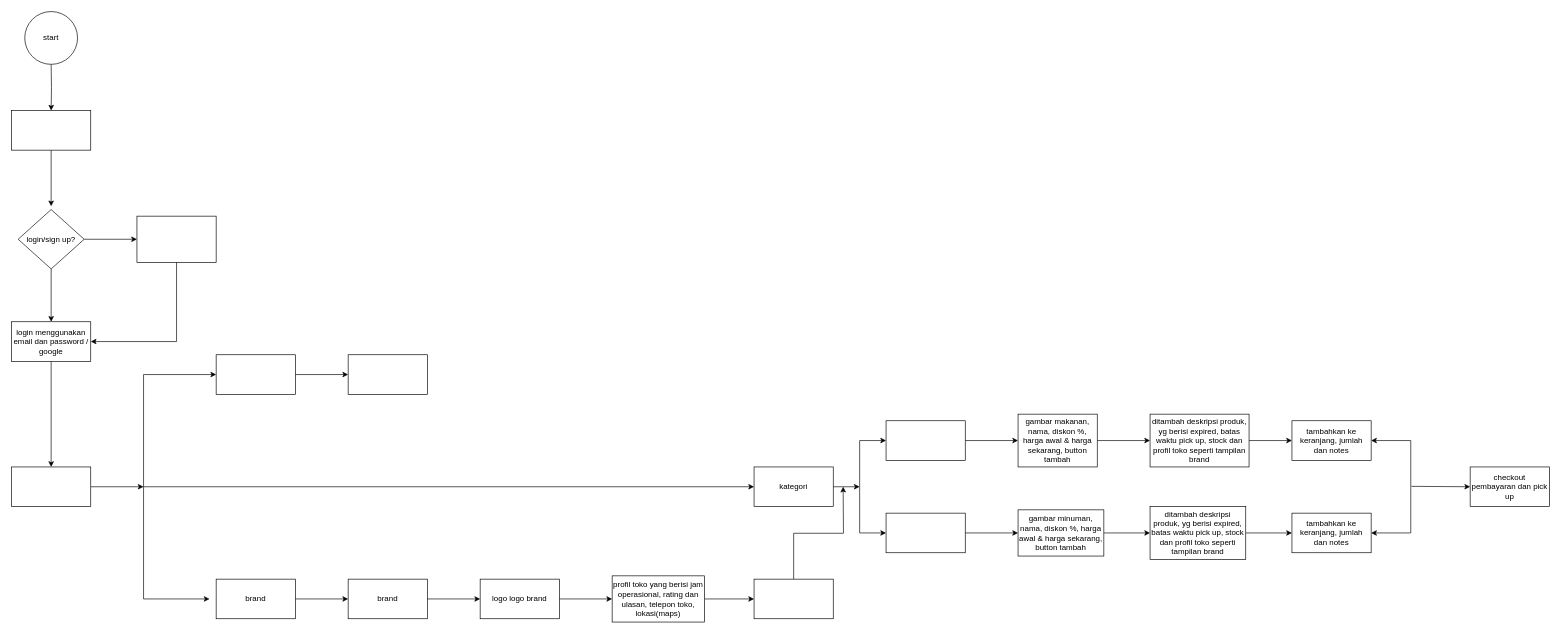
This 1561x634 diagram has some shape labels left out. The shapes that lost their labels are listed below. From the top down, each one's centre as x and y in pixels, then its label:
At (51,130): "welcome".
At (176,238): "sign up dgn isi nama lengkap, TTL, email dan password, nomor telepon".
At (255,374): "profil pengguna dan savings".
At (925,440): "makanan, dipisah makanan ringan dan berat".
At (51,486): "home".
At (925,532): "minuman".
At (793,598): "makanan yang sedang sale seperti yang ada di kategori".
